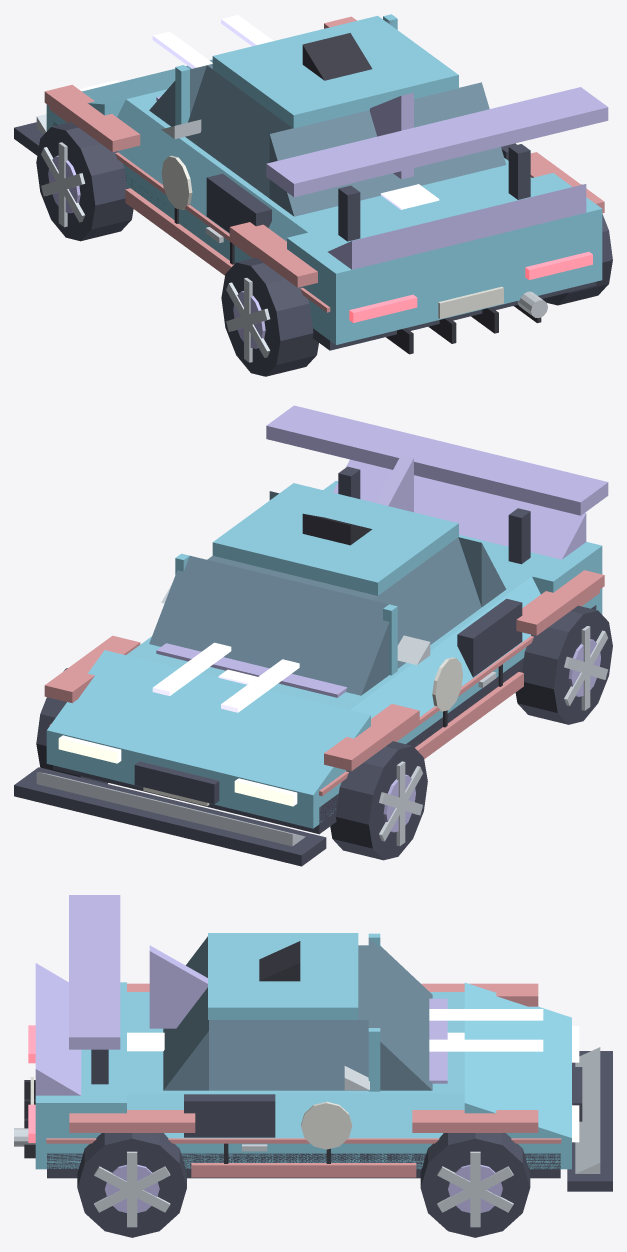
The model's file is straightaway_star.glb.
3 views of the same model, one above another, from view 1: azimuth 30°, elevation 25°; view 2: azimuth 150°, elevation 25°; view 3: azimuth 270°, elevation 25° (orthographic). The views are drawn at different scales.
Visible parts, largest first — view 1: Tail.089, Roof.289, RearWing.052, RearWindow.189, Body.289, Ducktail.063, CabinSideL.086, Wheel_RL.249, Wheel_FL.249, ShoulderL.086, BodyUpper.086, Arch-1False.165 (+31 smaller); view 2: Nose.086, Windshield.189, Roof.289, RearWing.052, Ducktail.063, Splitter.056, Body.289, Wheel_FL.249, Wheel_RL.249, CabinSideL.086, ShoulderL.086, Bumper.285 (+28 smaller); view 3: Roof.289, Nose.086, CabinSideR.086, RearWing.052, ShoulderR.086, Windshield.189, Body.289, Wheel_FR.249, Wheel_RR.249, BodyUpper.086, Ducktail.063, Tail.089 (+29 smaller).
Boxes of the visible parts, box(x1,y1,x2,y2) form: Tail.089: box(287, 173, 602, 311); Roof.289: box(212, 15, 458, 128); RearWing.052: box(266, 87, 608, 197); RearWindow.189: box(269, 82, 506, 216); Body.289: box(46, 104, 602, 344); Ducktail.063: box(328, 184, 586, 269); CabinSideL.086: box(185, 65, 292, 198); Wheel_RL.249: box(221, 257, 318, 376); Wheel_FL.249: box(36, 122, 133, 241); ShoulderL.086: box(117, 99, 307, 241); BodyUpper.086: box(126, 89, 531, 232); Arch-1False.165: box(44, 84, 140, 152); Nose.086: box(47, 650, 370, 794); Windshield.189: box(149, 555, 389, 695); Roof.289: box(212, 483, 458, 595); RearWing.052: box(266, 405, 608, 515); Ducktail.063: box(333, 459, 586, 559); Splitter.056: box(14, 767, 326, 866); Body.289: box(46, 588, 602, 828); Wheel_FL.249: box(330, 741, 427, 860); Wheel_RL.249: box(515, 605, 612, 724); CabinSideL.086: box(372, 537, 481, 668); ShoulderL.086: box(350, 577, 540, 718); Bumper.285: box(36, 772, 305, 846); Roof.289: box(208, 933, 358, 1019); Nose.086: box(464, 982, 571, 1138); CabinSideR.086: box(209, 1020, 368, 1090); RearWing.052: box(69, 895, 120, 1049); ShoulderR.086: box(127, 1093, 464, 1138); Windshield.189: box(368, 938, 432, 1090); Body.289: box(35, 1138, 571, 1169); Wheel_FR.249: box(420, 1133, 530, 1237); Wheel_RR.249: box(77, 1133, 186, 1237); BodyUpper.086: box(127, 992, 464, 1093); Ducktail.063: box(35, 963, 81, 1095); Tail.089: box(35, 982, 126, 1138).
Size of the model in its own units: 3.2 by 2.08 by 5.25.
